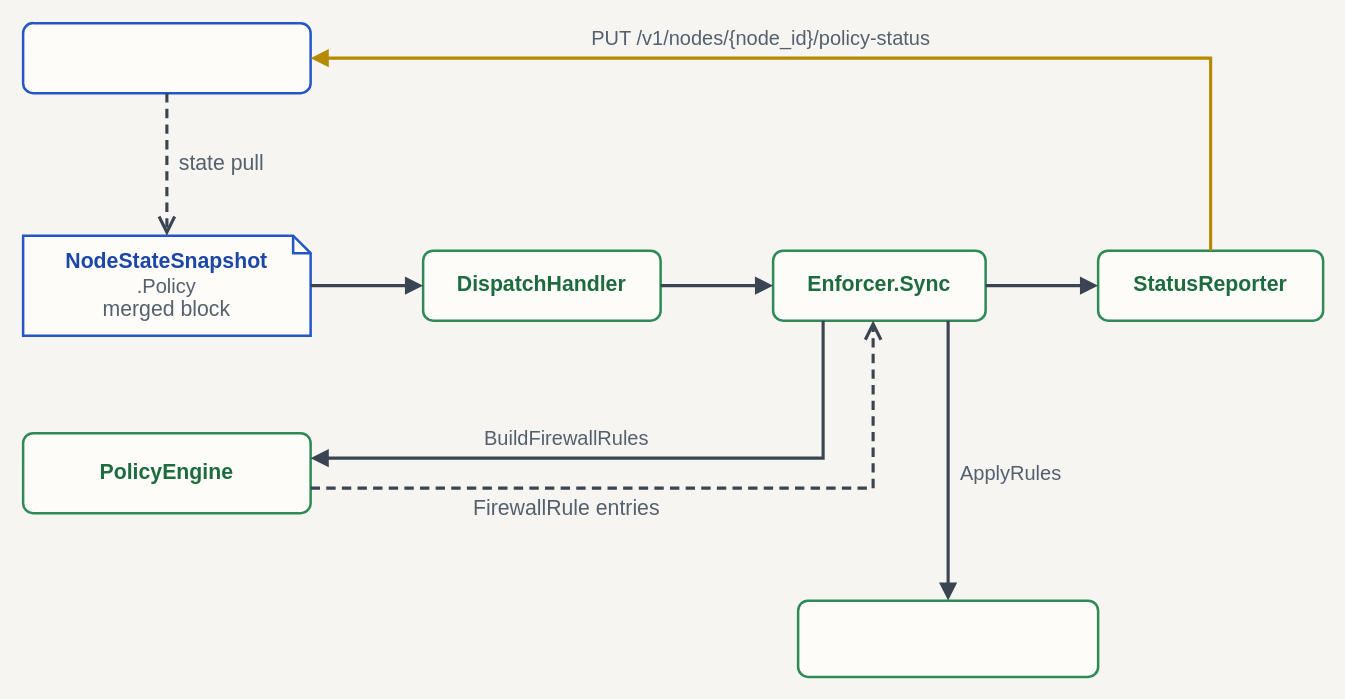
Some shapes in this 1345 by 699 pixel diagram are drawn without their labels. Here are the shapes that lost their labels. From the top down, the box of each, then its label:
(21, 21, 311, 94): Control Plane
(796, 599, 1099, 678): FirewallController nftables, pf, WFP
